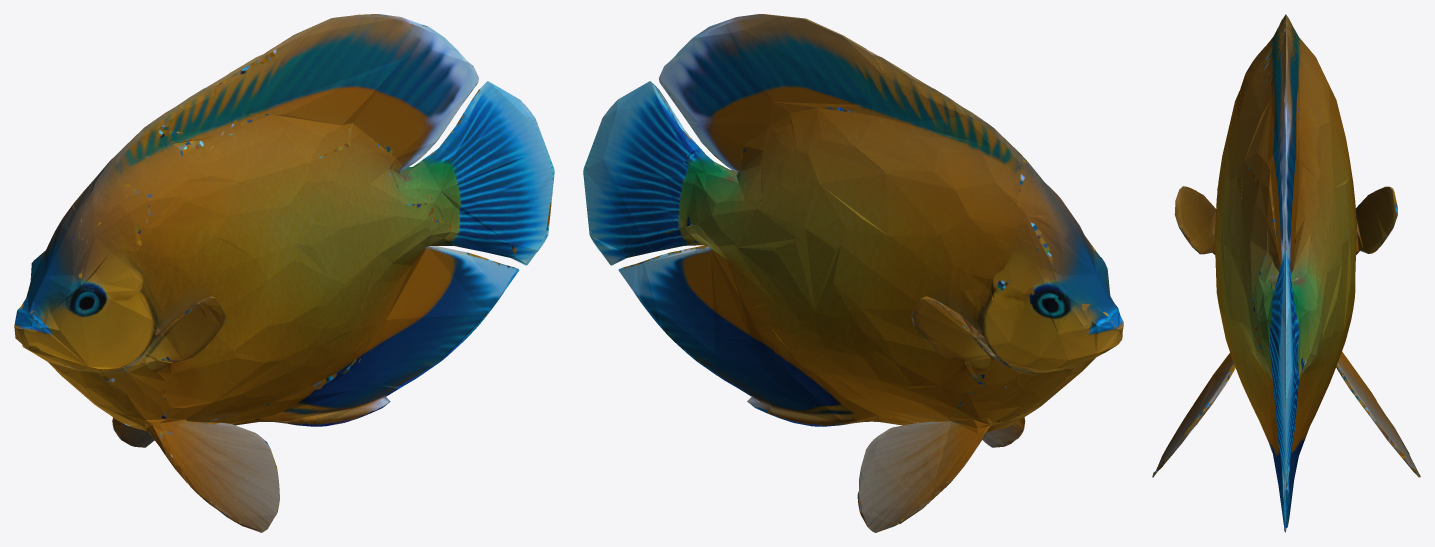
The model's file is fish_0048_smpl23_resized.glb.
The picture shows the model from 3 angles, left to right: view 1: azimuth 30°, elevation 25°; view 2: azimuth 150°, elevation 25°; view 3: azimuth 270°, elevation 25°; orthographic projection. The views are drawn at different scales.
Parts seen in each view (by area): view 1: world; view 2: world; view 3: world.
Part boxes in pixels (x1,y1,x2,y2): world: (14, 14, 554, 532); world: (583, 14, 1123, 532); world: (1152, 14, 1420, 532).
Size of the model in its own units: 1.99 by 1.55 by 0.7527.
1 material, 1 textured.
